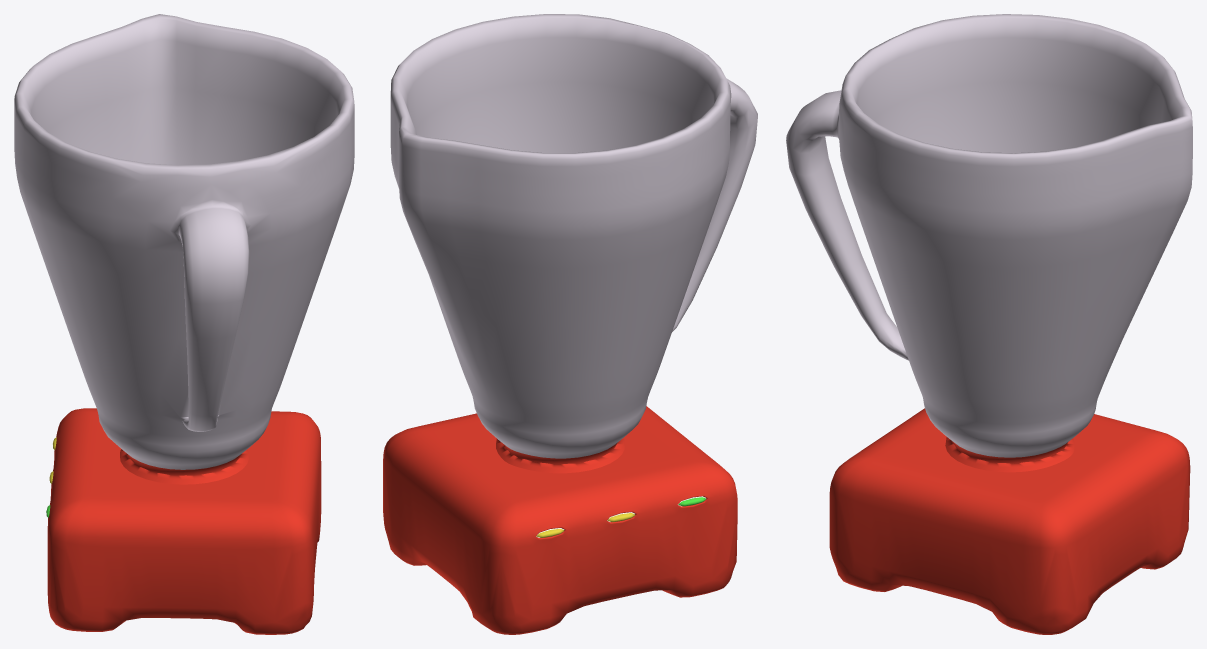
The model's file is Smooth_blender_new.fbx.
3 renders of one model, left to right at view 1: azimuth 30°, elevation 25°; view 2: azimuth 150°, elevation 25°; view 3: azimuth 270°, elevation 25°, orthographic.
Visible parts, largest first — view 1: Smooth_blend_0.001, Smooth_blend_0; view 2: Smooth_blend_0.001, Smooth_blend_0; view 3: Smooth_blend_0.001, Smooth_blend_0.
Part boxes in pixels (left/top/right/bottom): Smooth_blend_0.001: left=14, top=14, right=354, bottom=484; Smooth_blend_0: left=46, top=408, right=321, bottom=634; Smooth_blend_0.001: left=390, top=14, right=757, bottom=473; Smooth_blend_0: left=383, top=406, right=737, bottom=634; Smooth_blend_0.001: left=786, top=14, right=1192, bottom=472; Smooth_blend_0: left=829, top=408, right=1190, bottom=634.
Size of the model in its own units: 848 by 1266 by 968.
